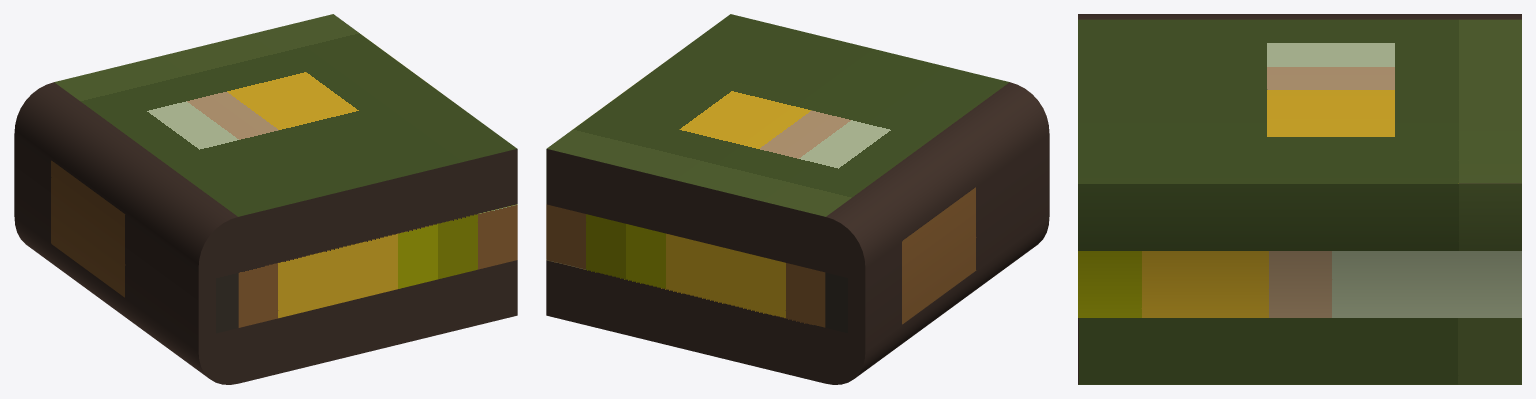
Rendered from book_642x10.obj.
The picture shows the model from 3 angles, left to right: view 1: azimuth 30°, elevation 25°; view 2: azimuth 150°, elevation 25°; view 3: azimuth 270°, elevation 25°; orthographic projection. The views are drawn at different scales.
Visible parts, largest first — view 1: Cube; view 2: Cube; view 3: Cube.
Part boxes in pixels (x1,y1,x2,y2): Cube: (14, 14, 517, 384); Cube: (546, 14, 1049, 384); Cube: (1078, 14, 1521, 384).
Bounding box in the file's own units: 1 × 0.5 × 1.
